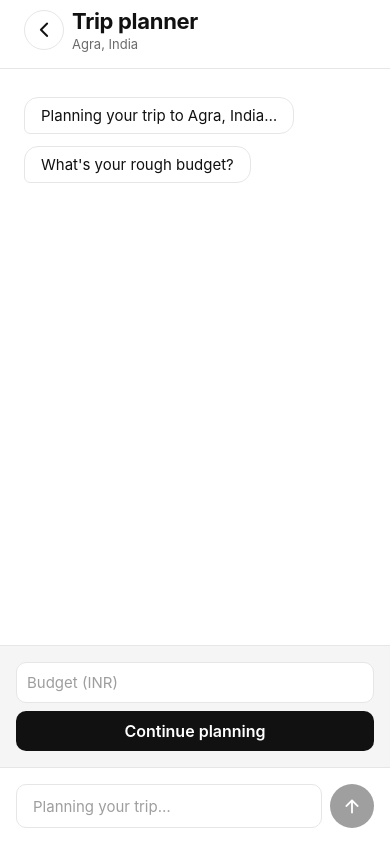
Test: ChatScreen › retries generation with the provided budget after clarification
The width and height of the screenshot is (390, 844).
Expected: the element with test id "clarification-panel" is shown, 0,645 -> 389,767
Step 1. Type "15000" into the field with test id "clarify-budget-input" → {"x": 195, "y": 682}, box 16,662 -> 374,703
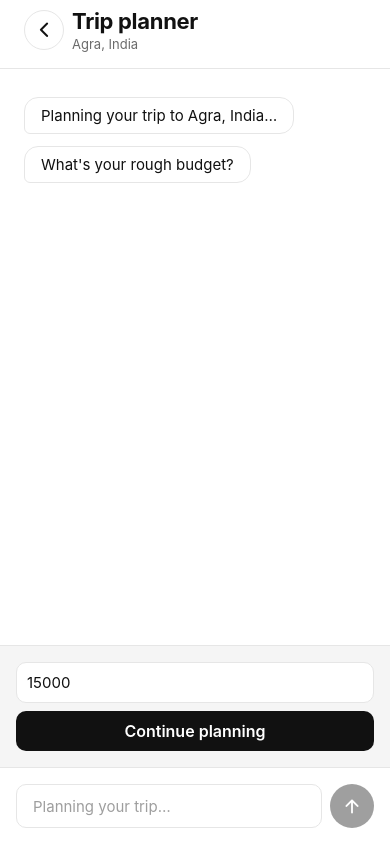
Step 2. Click the element with test id "clarify-submit-button" → {"x": 195, "y": 731}, box 16,711 -> 374,751
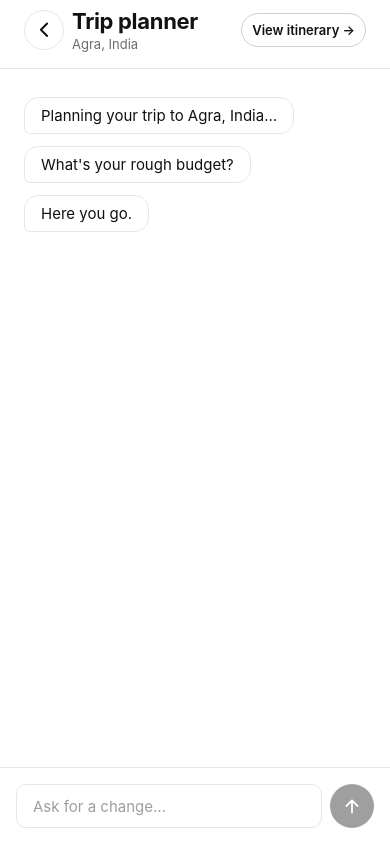
Expected: the text "Here you go." is shown, 41,204 -> 132,223
